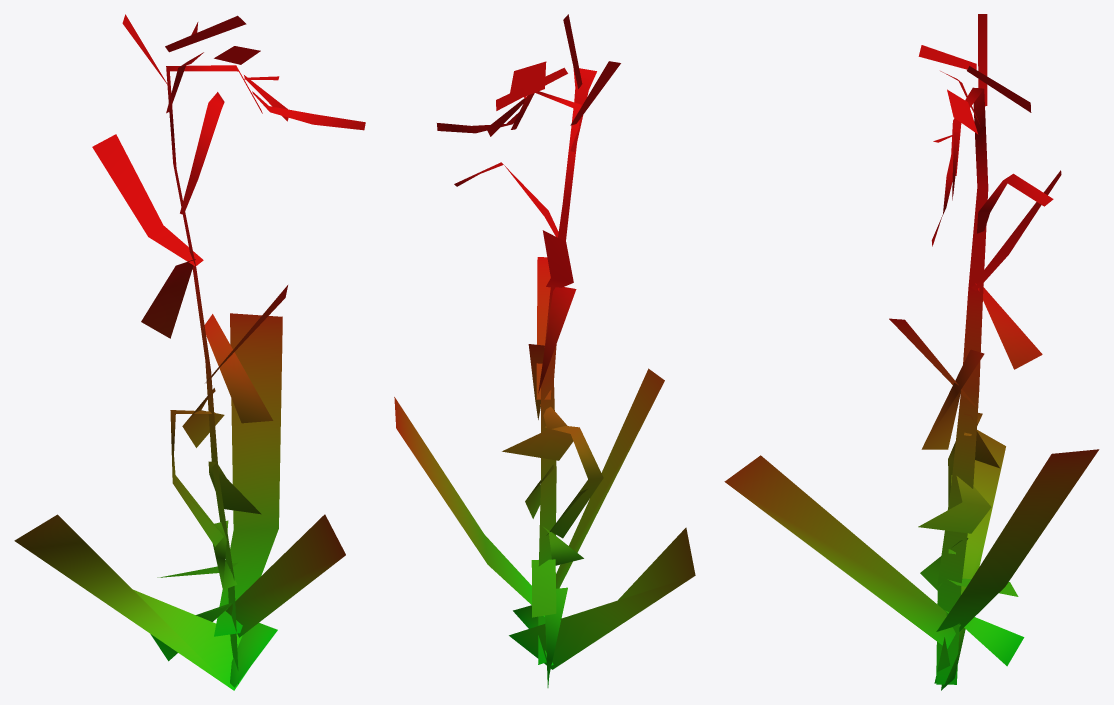
Rendered from Var4_LOD3.fbx.
The picture shows the model from 3 angles, left to right: view 1: azimuth 30°, elevation 25°; view 2: azimuth 150°, elevation 25°; view 3: azimuth 270°, elevation 25°; orthographic projection. The views are drawn at different scales.
Parts seen in each view (by area): view 1: _8d77_Var4_LOD3; view 2: _8d77_Var4_LOD3; view 3: _8d77_Var4_LOD3.
Part boxes in pixels (x1=…): _8d77_Var4_LOD3: x1=14, y1=14, x2=365, y2=690; _8d77_Var4_LOD3: x1=394, y1=14, x2=695, y2=687; _8d77_Var4_LOD3: x1=724, y1=14, x2=1099, y2=690.
Size of the model in its own units: 21.44 by 44.95 by 23.77.
